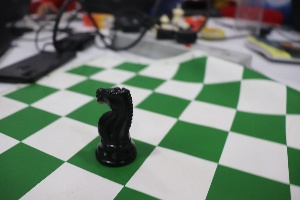black_horse: (87, 73, 141, 173)
